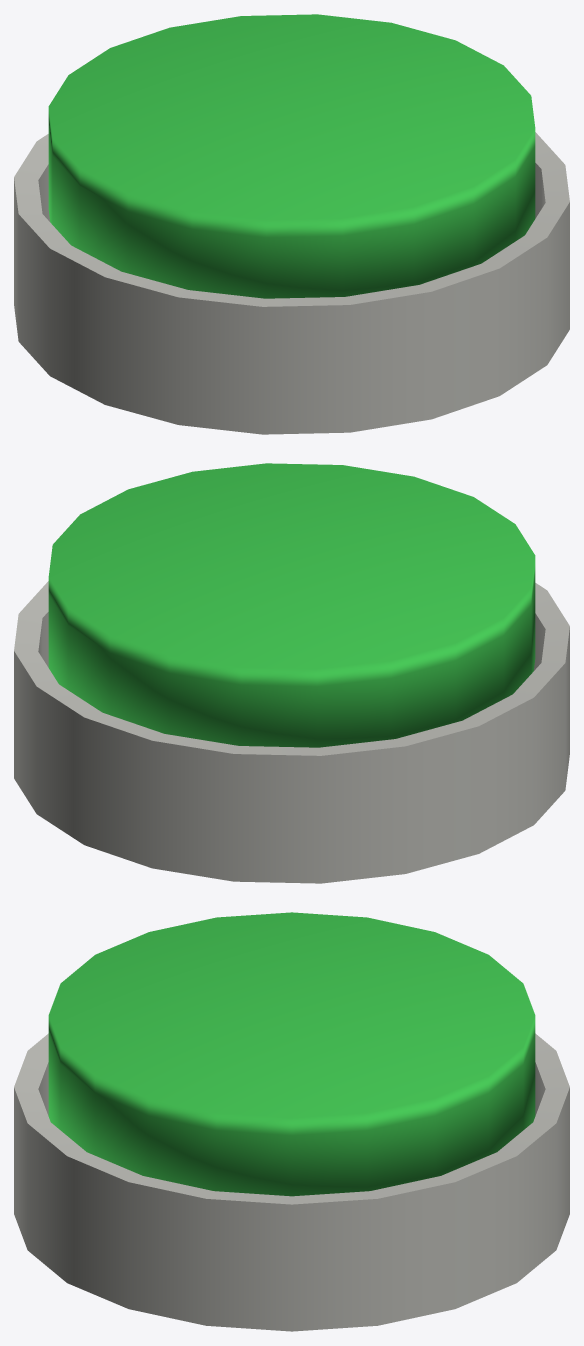
The model's file is emeraldButton.fbx.
The picture shows the model from 3 angles, top to bottom: view 1: azimuth 30°, elevation 25°; view 2: azimuth 150°, elevation 25°; view 3: azimuth 270°, elevation 25°; orthographic projection.
Visible parts, largest first — view 1: pCylinder7, pCylinder8; view 2: pCylinder7, pCylinder8; view 3: pCylinder7, pCylinder8.
Part boxes in pixels (x1,y1,x2,y2): pCylinder7: (48, 14, 535, 298); pCylinder8: (14, 132, 569, 434); pCylinder7: (48, 463, 535, 747); pCylinder8: (14, 581, 569, 883); pCylinder7: (48, 912, 535, 1196); pCylinder8: (14, 1033, 569, 1331).
Size of the model in its own units: 13.51 by 5.33 by 13.51.
